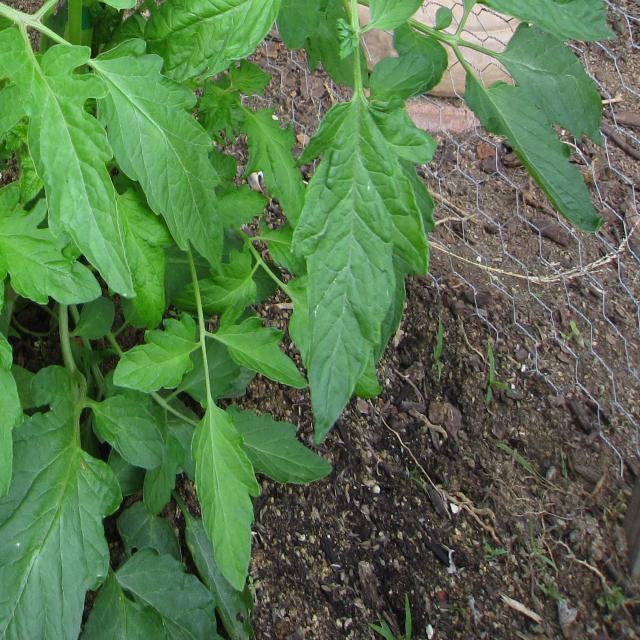Healthy: (292, 101, 429, 444), (0, 22, 139, 301), (0, 365, 128, 640), (93, 22, 232, 272), (459, 76, 604, 240), (0, 170, 104, 308), (192, 407, 263, 588), (503, 21, 604, 145), (220, 298, 310, 389), (112, 311, 196, 392), (94, 394, 167, 472)
